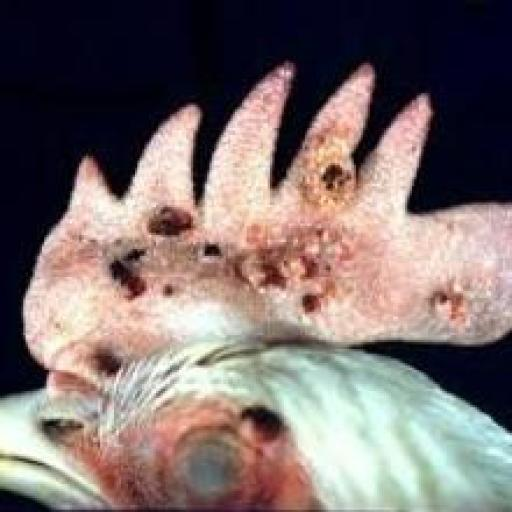disease: (100, 204, 480, 344), (134, 402, 280, 512), (310, 124, 373, 218)
